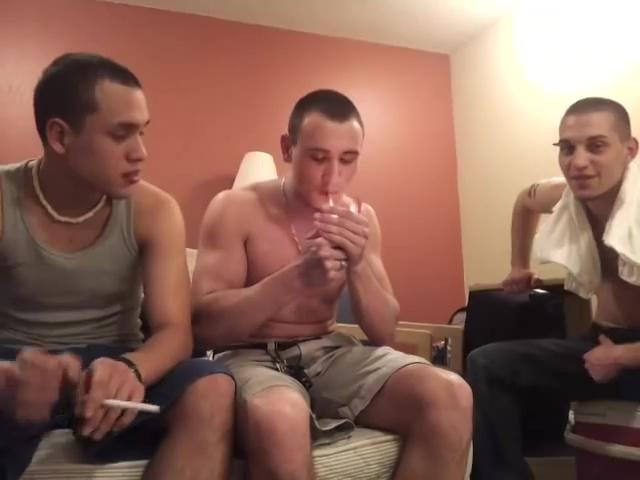cigarette: (100, 394, 164, 418), (328, 192, 334, 207)
